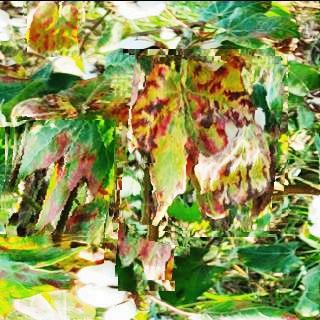blight: (111, 54, 288, 230), (0, 119, 119, 241), (104, 194, 190, 279), (23, 0, 82, 55)
